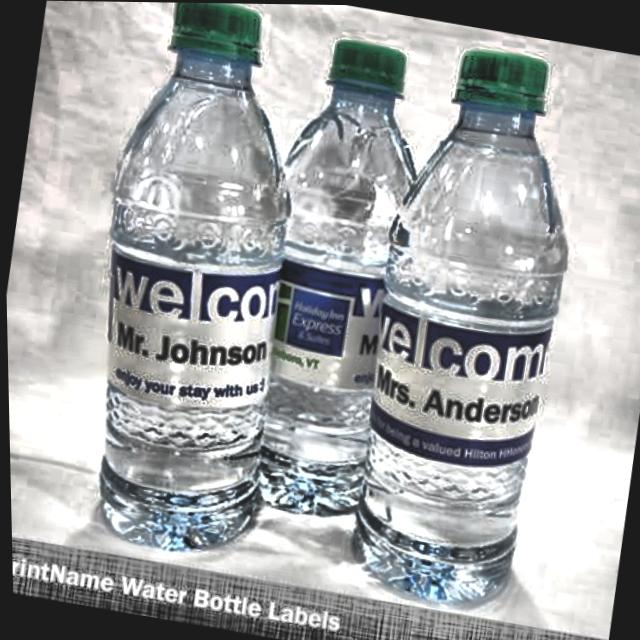Bottles: (39, 0, 345, 559), (333, 36, 616, 627), (223, 20, 440, 526)
